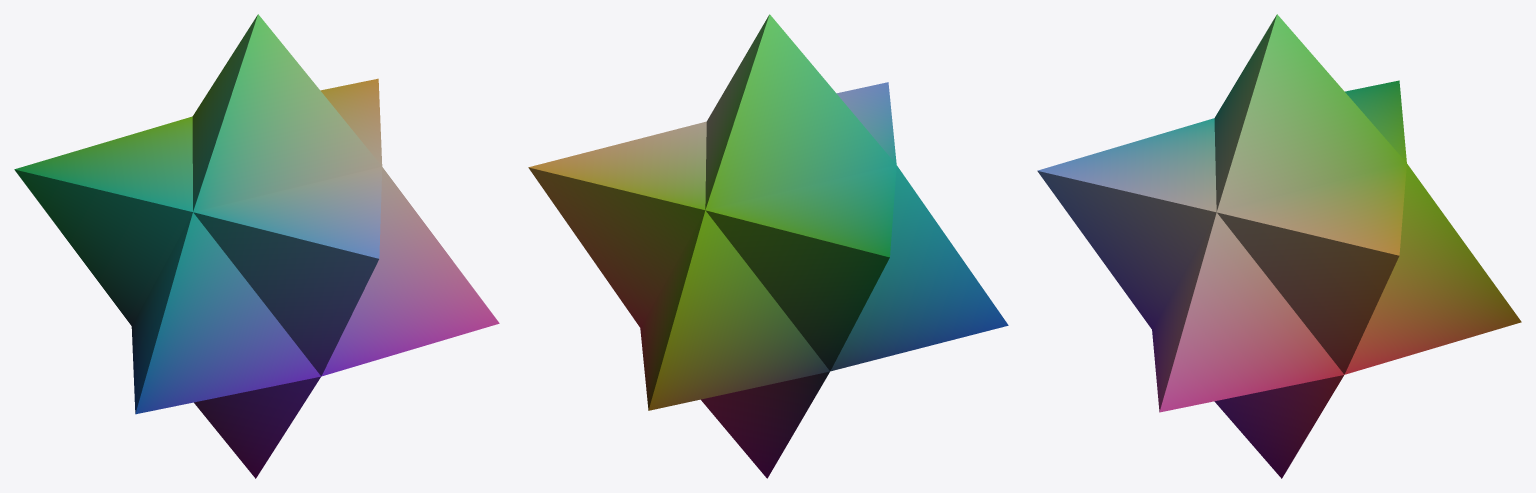
Rendered from zeometry-stars-spikes-six-point-star_v2.glb.
3 renders of one model, left to right at view 1: azimuth 30°, elevation 25°; view 2: azimuth 150°, elevation 25°; view 3: azimuth 270°, elevation 25°, orthographic.
Parts seen in each view (by area): view 1: Six-Point Star_v2; view 2: Six-Point Star_v2; view 3: Six-Point Star_v2.
Boxes of the visible parts, x1,y1,x2,y2 form: Six-Point Star_v2: (14, 14, 499, 478); Six-Point Star_v2: (528, 14, 1008, 478); Six-Point Star_v2: (1037, 14, 1521, 478).
Bounding box in the file's own units: 0.4095 × 0.5 × 0.4725.
